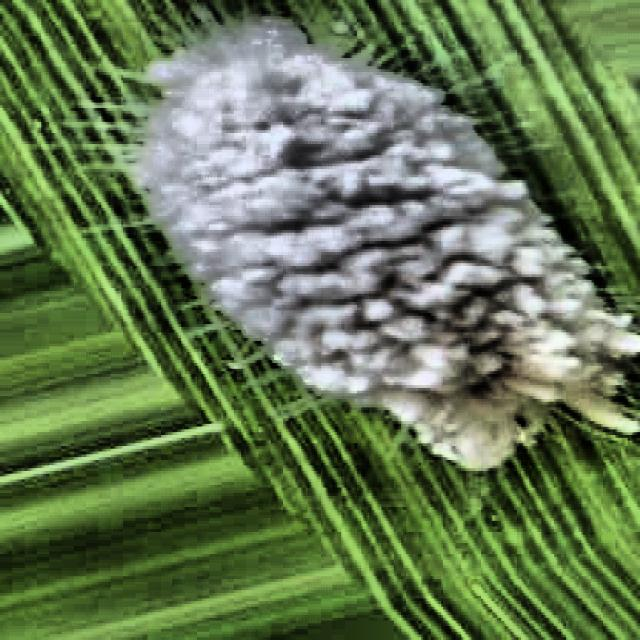Mealy-bug: (86, 4, 635, 545)
